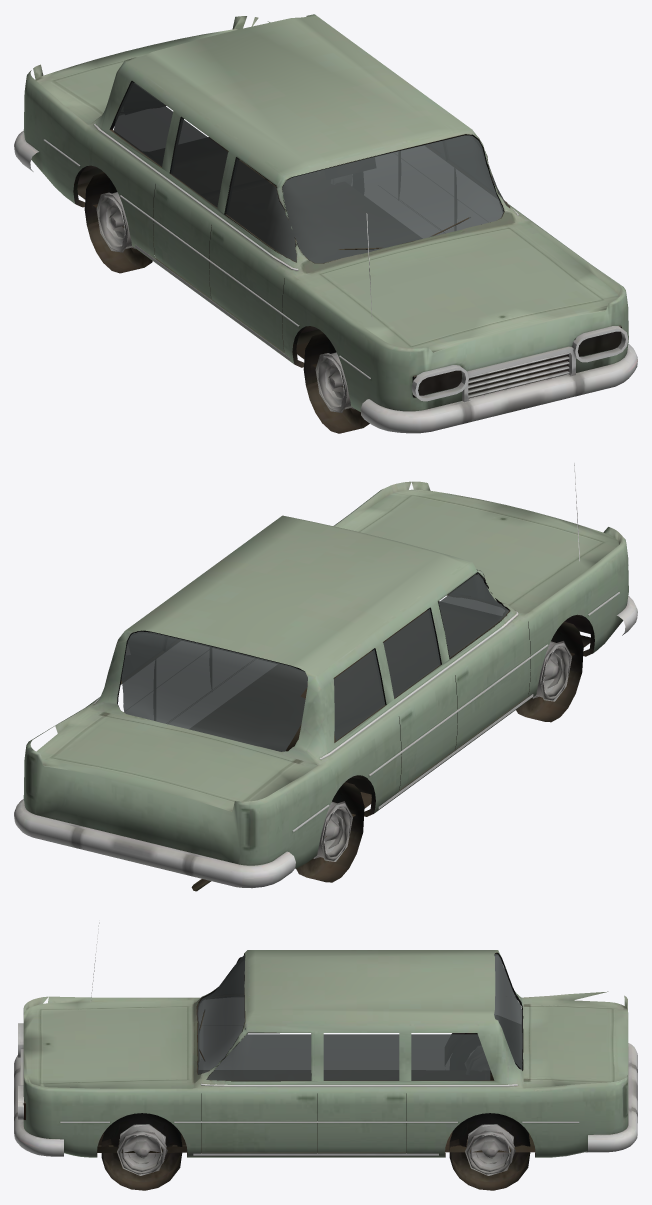
The model's file is nuketown_car_b-low.glb.
3 renders of one model, top to bottom at view 1: azimuth 30°, elevation 25°; view 2: azimuth 150°, elevation 25°; view 3: azimuth 270°, elevation 25°, orthographic. The views are drawn at different scales.
Visible parts, largest first — view 1: car_b_A_low, car_b_glass_low, car_b_B_low; view 2: car_b_A_low, car_b_glass_low, car_b_B_low; view 3: car_b_A_low, car_b_glass_low, car_b_B_low.
Boxes of the visible parts, <box> form: car_b_A_low: <box>14,14,637,433</box>; car_b_glass_low: <box>113,82,508,263</box>; car_b_B_low: <box>77,137,369,433</box>; car_b_A_low: <box>14,463,637,888</box>; car_b_glass_low: <box>120,569,508,751</box>; car_b_B_low: <box>191,601,590,891</box>; car_b_A_low: <box>14,922,637,1157</box>; car_b_glass_low: <box>197,953,522,1080</box>; car_b_B_low: <box>97,1033,587,1190</box>.
Bounding box in the file's own units: 2 × 1.68 × 5.11.
Materials: 3 (2 with a texture image).
